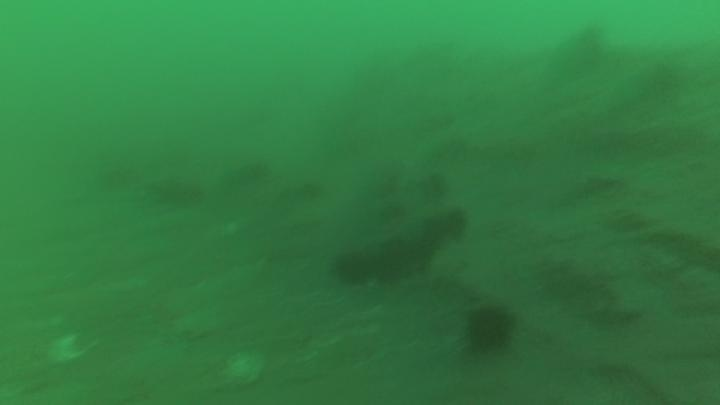echinus: (462, 302, 517, 356), (371, 237, 419, 285), (150, 174, 205, 211), (331, 248, 376, 288), (434, 206, 471, 243)
scallop: (218, 346, 268, 391)
